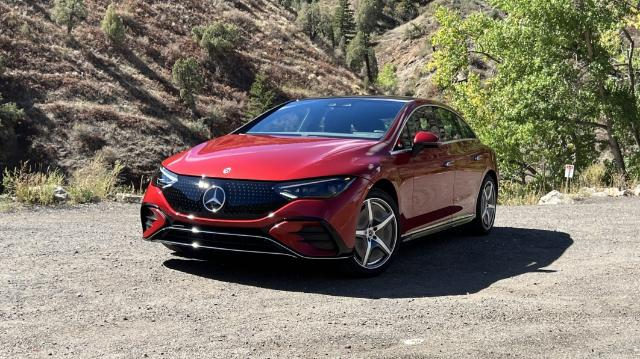benz: (140, 96, 500, 274)
